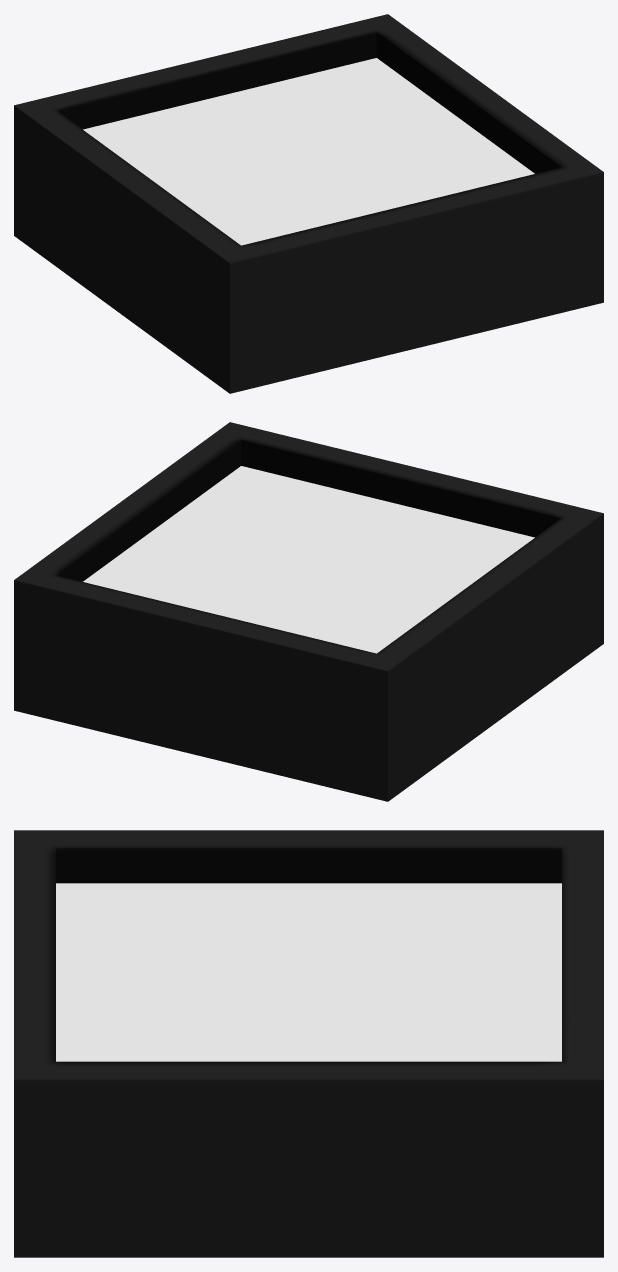
Rendered from Warp_off.fbx.
3 renders of one model, top to bottom at view 1: azimuth 30°, elevation 25°; view 2: azimuth 150°, elevation 25°; view 3: azimuth 270°, elevation 25°, orthographic. The views are drawn at different scales.
Visible parts, largest first — view 1: pCube5; view 2: pCube5; view 3: pCube5.
Boxes of the visible parts, left/top/right/bottom form: pCube5: left=14, top=14, right=603, bottom=393; pCube5: left=14, top=422, right=603, bottom=801; pCube5: left=14, top=830, right=603, bottom=1257.
Size of the model in its own units: 6 by 2 by 6.
Materials: 1 (1 with a texture image).
